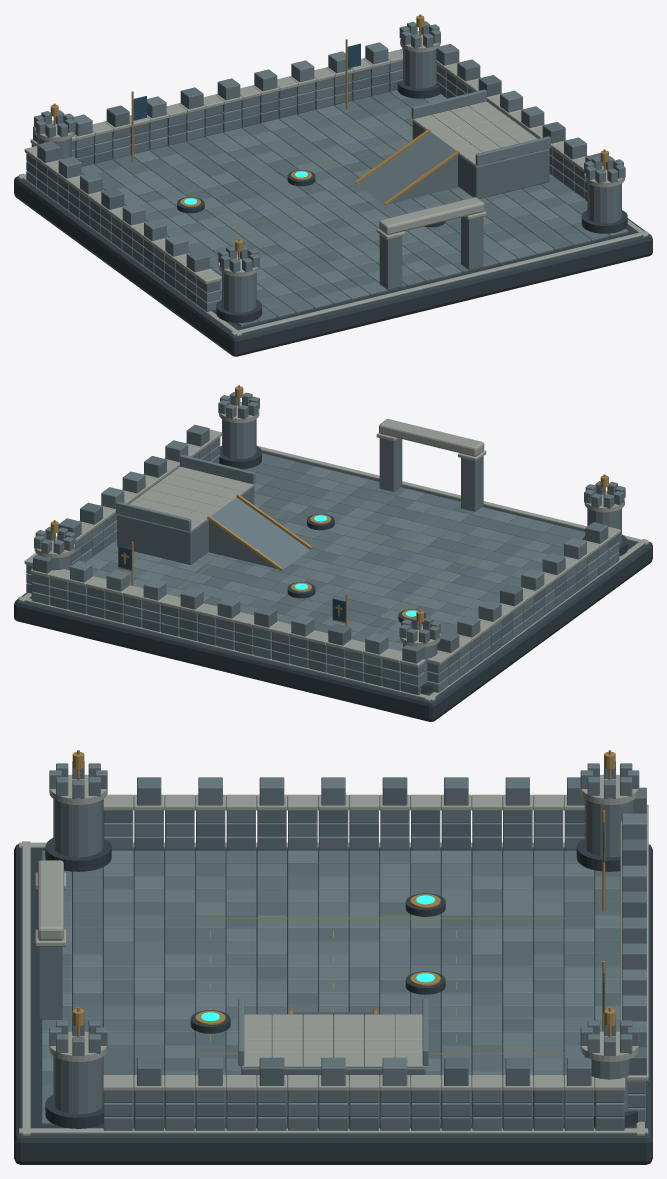
Rendered from courtyard.glb.
3 renders of one model, top to bottom at view 1: azimuth 30°, elevation 25°; view 2: azimuth 150°, elevation 25°; view 3: azimuth 270°, elevation 25°, orthographic. The views are drawn at different scales.
Visible parts, largest first — view 1: Courtyard • Basalt 2, Courtyard • Basalt 3, Courtyard • Basalt 1, Courtyard • Basalt 0, Courtyard • Recessed masonry, Courtyard • Dressed limestone, Courtyard • Weathered brass, Gate lintel, Gate pier, Gate pier.001, Courtyard • Midnight banners; view 2: Courtyard • Basalt 2, Courtyard • Basalt 3, Courtyard • Basalt 1, Courtyard • Recessed masonry, Courtyard • Basalt 0, Courtyard • Dressed limestone, Courtyard • Weathered brass, Gate lintel, Gate pier.001, Gate pier, Courtyard • Midnight banners; view 3: Courtyard • Basalt 2, Courtyard • Basalt 1, Courtyard • Basalt 3, Courtyard • Recessed masonry, Courtyard • Basalt 0, Courtyard • Dressed limestone, Courtyard • Weathered brass, Gate lintel, Gate pier.001.
Boxes of the visible parts, left/top/right/bottom form: Courtyard • Basalt 2: left=31, top=21, right=628, bottom=312; Courtyard • Basalt 3: left=26, top=42, right=574, bottom=302; Courtyard • Basalt 1: left=26, top=59, right=609, bottom=322; Courtyard • Basalt 0: left=37, top=48, right=587, bottom=326; Courtyard • Recessed masonry: left=14, top=81, right=652, bottom=356; Courtyard • Dressed limestone: left=18, top=31, right=648, bottom=336; Courtyard • Weathered brass: left=50, top=14, right=608, bottom=261; Gate lintel: left=379, top=197, right=484, bottom=234; Gate pier: left=379, top=235, right=402, bottom=289; Gate pier.001: left=461, top=216, right=483, bottom=270; Courtyard • Midnight banners: left=133, top=43, right=360, bottom=120; Courtyard • Basalt 2: left=26, top=392, right=625, bottom=684; Courtyard • Basalt 3: left=26, top=454, right=619, bottom=692; Courtyard • Basalt 1: left=26, top=424, right=608, bottom=683; Courtyard • Recessed masonry: left=14, top=446, right=652, bottom=721; Courtyard • Basalt 0: left=33, top=456, right=628, bottom=694; Courtyard • Dressed limestone: left=18, top=402, right=648, bottom=701; Courtyard • Weathered brass: left=50, top=385, right=608, bottom=641; Gate lintel: left=379, top=419, right=484, bottom=456; Gate pier.001: left=379, top=438, right=402, bottom=491; Gate pier: left=461, top=456, right=483, bottom=511; Courtyard • Midnight banners: left=118, top=546, right=345, bottom=623; Courtyard • Basalt 2: left=42, top=761, right=646, bottom=1130; Courtyard • Basalt 1: left=42, top=777, right=646, bottom=1130; Courtyard • Basalt 3: left=42, top=777, right=646, bottom=1130; Courtyard • Recessed masonry: left=14, top=838, right=652, bottom=1164; Courtyard • Basalt 0: left=42, top=777, right=646, bottom=1130; Courtyard • Dressed limestone: left=18, top=774, right=648, bottom=1135; Courtyard • Weathered brass: left=72, top=750, right=615, bottom=1053; Gate lintel: left=37, top=860, right=63, bottom=940; Gate pier.001: left=38, top=946, right=62, bottom=1019.
Bounding box in the file's own units: 22.8 × 5.04 × 20.8.
